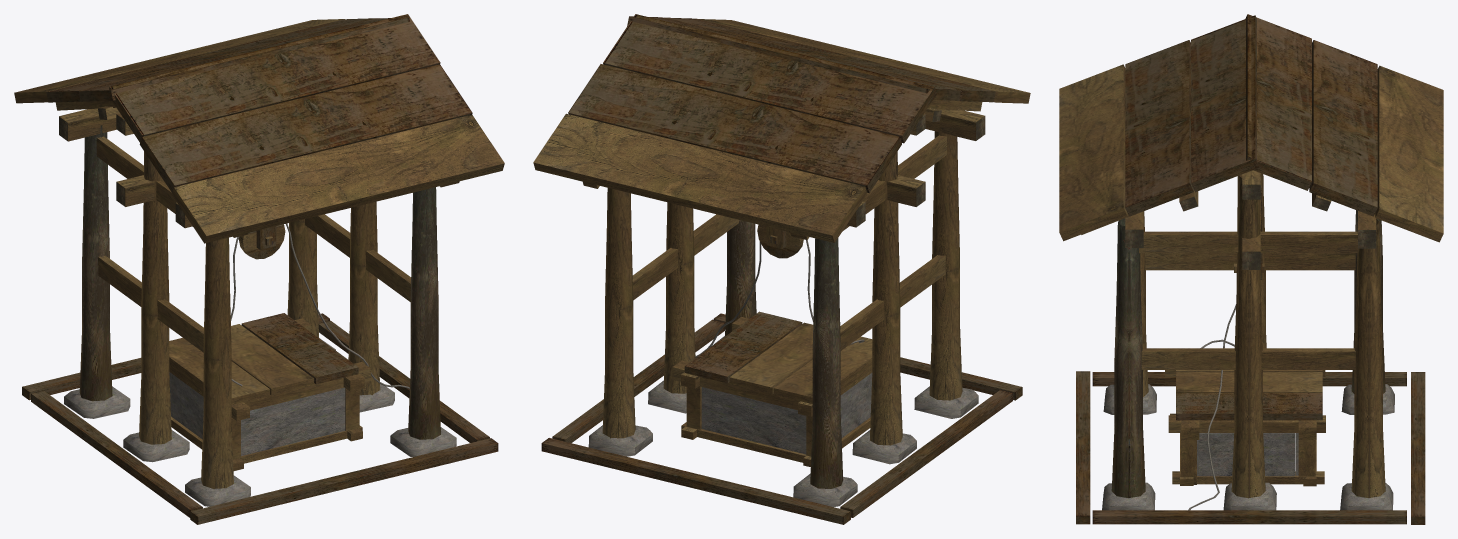
Rendered from building_ido.fbx.
The picture shows the model from 3 angles, left to right: view 1: azimuth 30°, elevation 25°; view 2: azimuth 150°, elevation 25°; view 3: azimuth 270°, elevation 25°; orthographic projection.
Parts seen in each view (by area): view 1: building_ido; view 2: building_ido; view 3: building_ido.
Boxes of the visible parts, left/top/right/bottom form: building_ido: left=14, top=14, right=504, bottom=524; building_ido: left=533, top=14, right=1030, bottom=524; building_ido: left=1059, top=14, right=1443, bottom=524.
Size of the model in its own units: 193 by 227 by 215.
